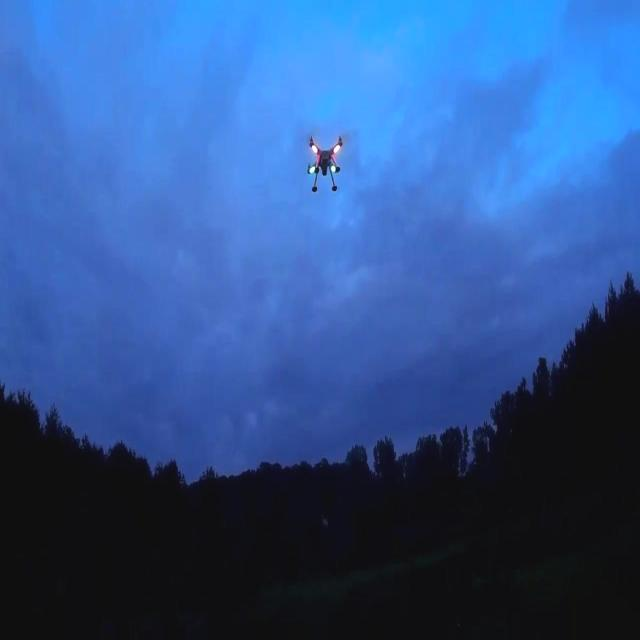drone: (304, 130, 344, 198)
